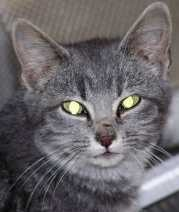Cat: (0, 2, 171, 194)
